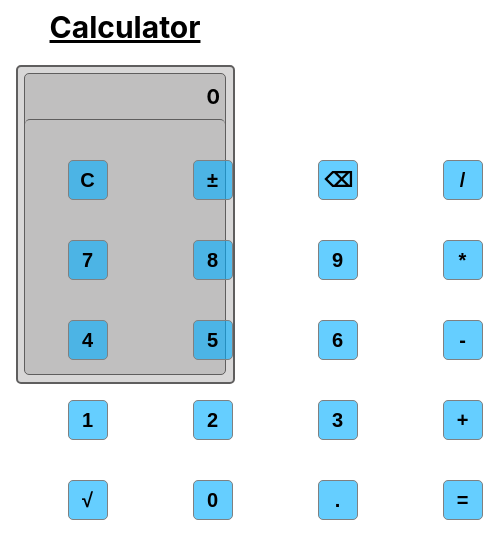
Calculator Page › back button removes last selected value
Click the button "1".
click(88, 420)  # box x1=68 y1=400 x2=108 y2=440
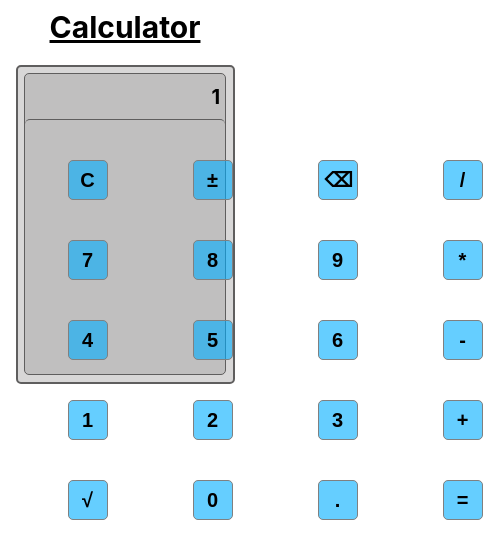
Click the button "2".
click(213, 420)  # box x1=193 y1=400 x2=233 y2=440
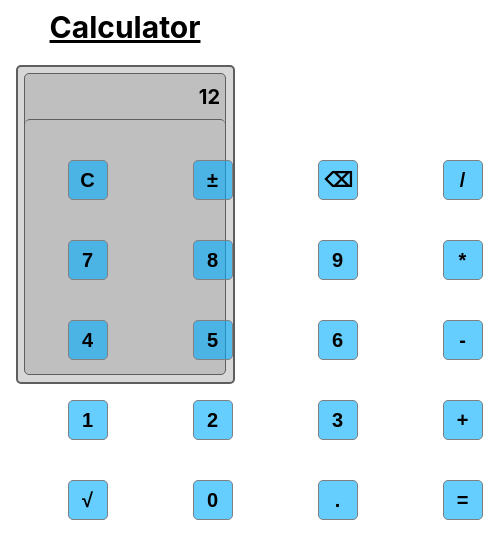
Click the button "3".
click(338, 420)  # box x1=318 y1=400 x2=358 y2=440
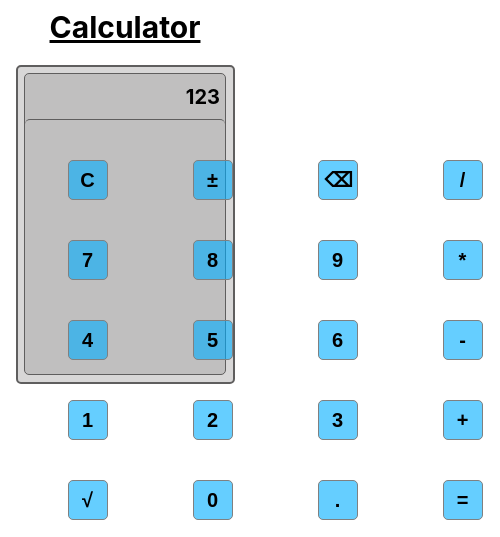
Click the button "⌫".
click(338, 180)  # box x1=318 y1=160 x2=358 y2=200
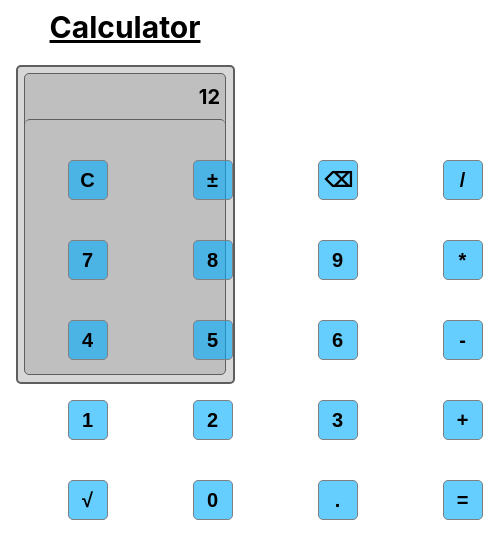
expect the text "12" is shown: met, box x1=199 y1=85 x2=220 y2=109
